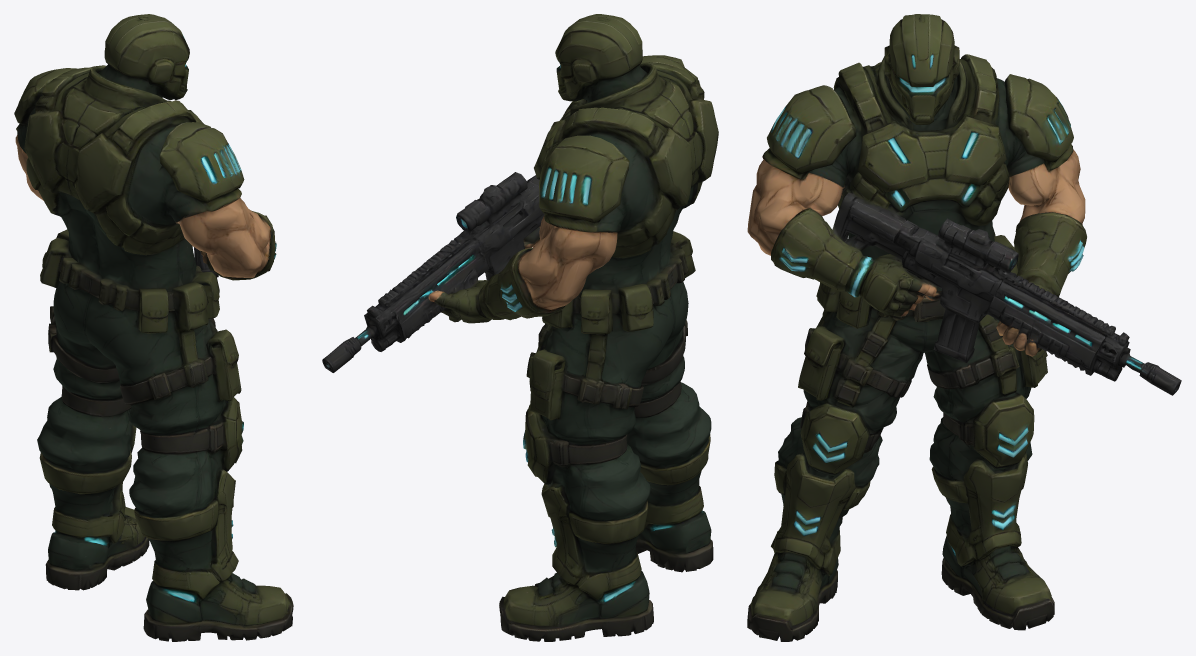
The model's file is warden_static.glb.
The picture shows the model from 3 angles, left to right: view 1: azimuth 30°, elevation 25°; view 2: azimuth 150°, elevation 25°; view 3: azimuth 270°, elevation 25°; orthographic projection. The views are drawn at different scales.
Visible parts, largest first — view 1: tripo_node_04ddfe84-74d7-49dd-930e-1d716416cf93; view 2: tripo_node_04ddfe84-74d7-49dd-930e-1d716416cf93; view 3: tripo_node_04ddfe84-74d7-49dd-930e-1d716416cf93.
Boxes of the visible parts, box(x1,y1,x2,y2) form: tripo_node_04ddfe84-74d7-49dd-930e-1d716416cf93: box(14, 14, 293, 641); tripo_node_04ddfe84-74d7-49dd-930e-1d716416cf93: box(322, 14, 718, 641); tripo_node_04ddfe84-74d7-49dd-930e-1d716416cf93: box(747, 14, 1181, 641).
Size of the model in its own units: 0.8633 by 1.9 by 1.27.
Materials: 1 (1 with a texture image).
